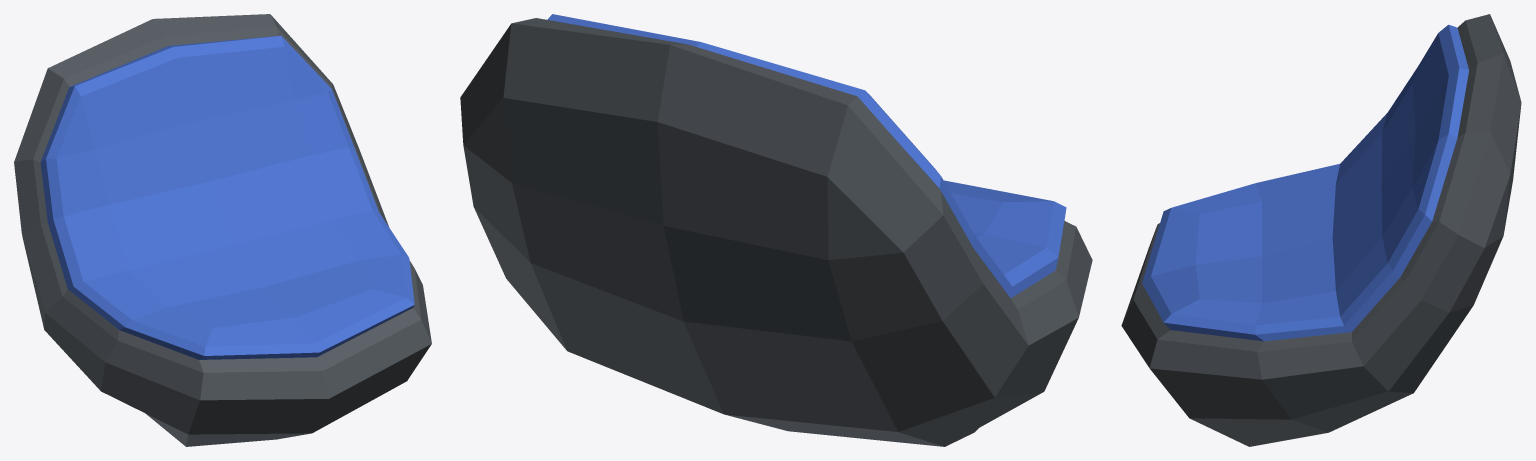
File: Personal_Vehicle_01_Seat_Blue.fbx
The picture shows the model from 3 angles, left to right: view 1: azimuth 30°, elevation 25°; view 2: azimuth 150°, elevation 25°; view 3: azimuth 270°, elevation 25°; orthographic projection. The views are drawn at different scales.
Visible parts, largest first — view 1: Personal_Vehicle_01_Seat_Blue; view 2: Personal_Vehicle_01_Seat_Blue; view 3: Personal_Vehicle_01_Seat_Blue.
Part boxes in pixels (left/top/right/bottom): Personal_Vehicle_01_Seat_Blue: left=14, top=14, right=431, bottom=446; Personal_Vehicle_01_Seat_Blue: left=460, top=14, right=1092, bottom=446; Personal_Vehicle_01_Seat_Blue: left=1121, top=14, right=1521, bottom=446.
Bounding box in the file's own units: 90.56 × 82.85 × 83.99.
Materials: 1 (1 with a texture image).
